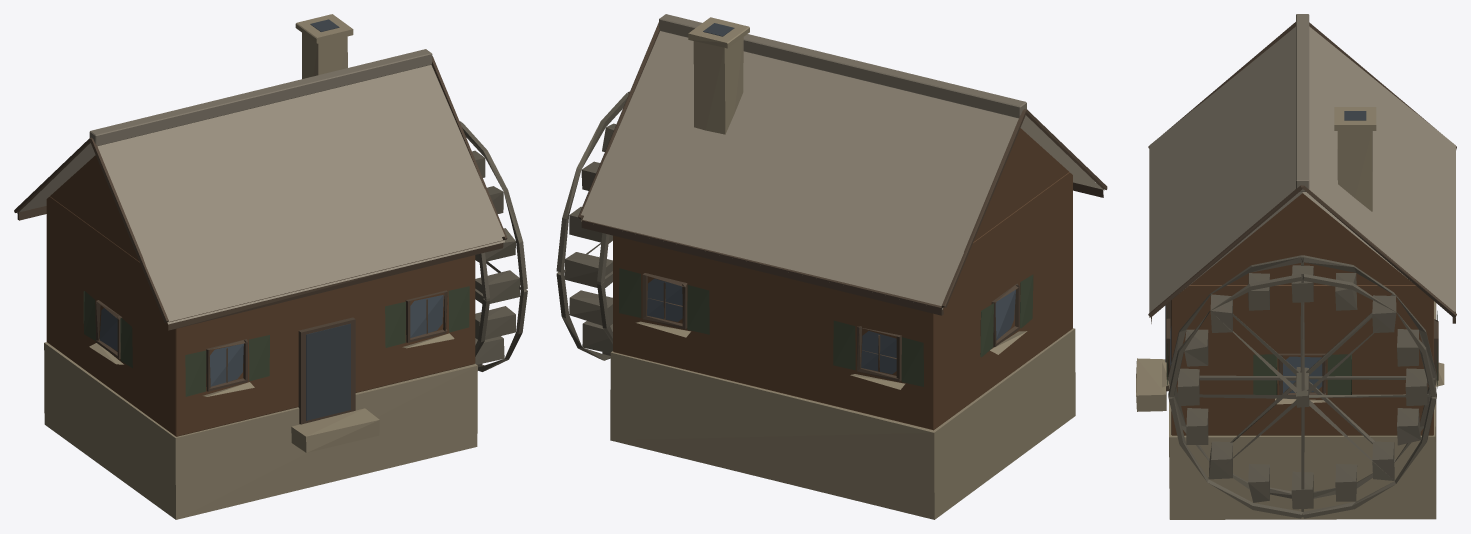
Rendered from watermill-lod1.glb.
The picture shows the model from 3 angles, left to right: view 1: azimuth 30°, elevation 25°; view 2: azimuth 150°, elevation 25°; view 3: azimuth 270°, elevation 25°; orthographic projection. The views are drawn at different scales.
Size of the model in its own units: 10.15 by 9.42 by 7.32.
